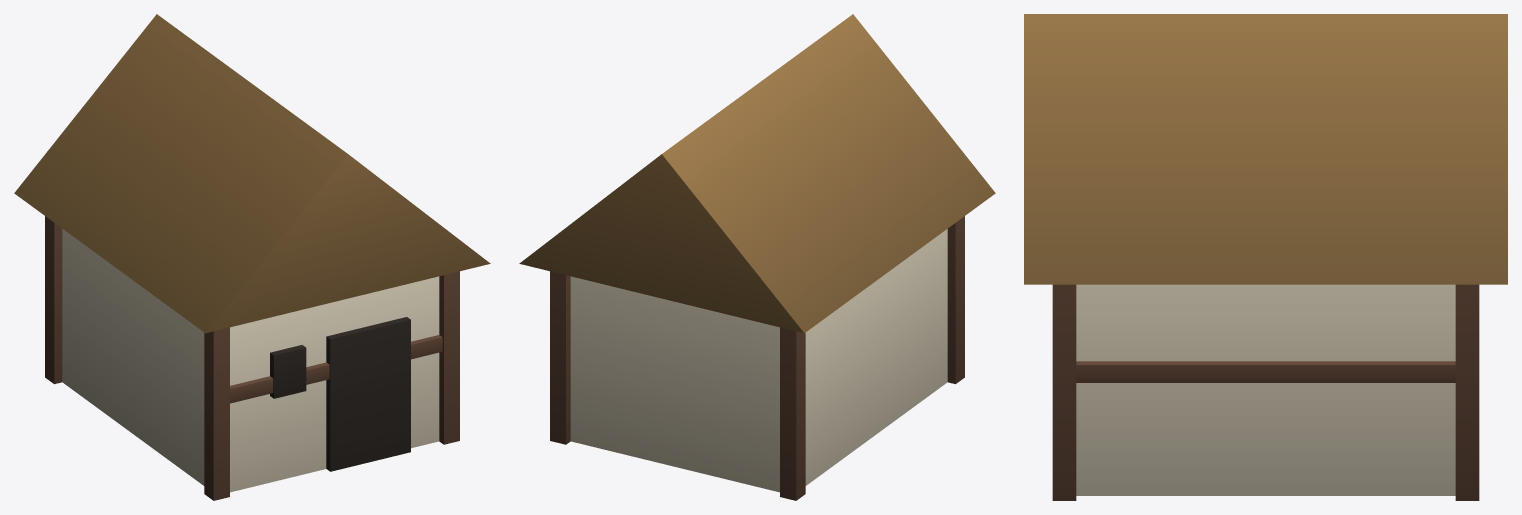
The model's file is house_NE_2a.glb.
3 views of the same model, side by side, from view 1: azimuth 30°, elevation 25°; view 2: azimuth 150°, elevation 25°; view 3: azimuth 270°, elevation 25° (orthographic). The views are drawn at different scales.
Visible parts, largest first — view 1: Body; view 2: Body; view 3: Body.
Part boxes in pixels (left/top/right/bottom): Body: left=14, top=14, right=490, bottom=500; Body: left=519, top=14, right=995, bottom=500; Body: left=1024, top=14, right=1507, bottom=500.
Size of the model in its own units: 1.24 by 1.35 by 1.44.
1 material, 1 textured.
